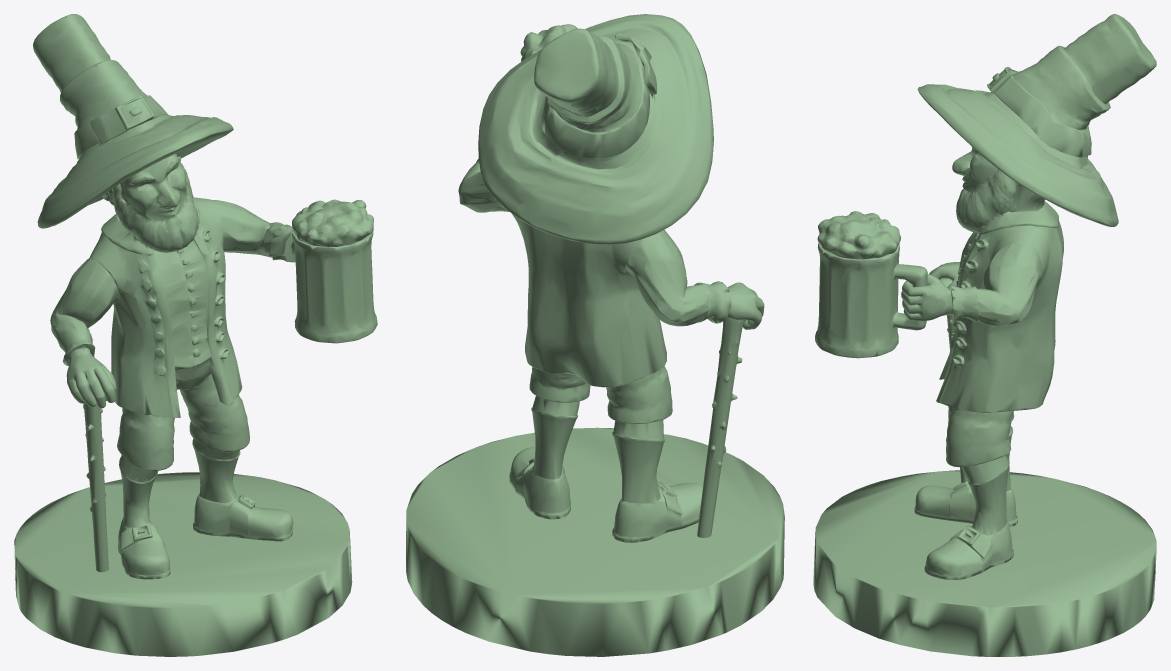
Rendered from leprechaun.glb.
3 renders of one model, left to right at view 1: azimuth 30°, elevation 25°; view 2: azimuth 150°, elevation 25°; view 3: azimuth 270°, elevation 25°, orthographic. The views are drawn at different scales.
Parts seen in each view (by area): view 1: leprechaun; view 2: leprechaun; view 3: leprechaun.
Boxes of the visible parts, x1=… form: leprechaun: x1=14, y1=14, x2=377, y2=656; leprechaun: x1=406, y1=14, x2=784, y2=656; leprechaun: x1=813, y1=14, x2=1156, y2=656.
Size of the model in its own units: 16.42 by 29.32 by 16.46.
